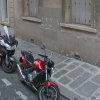Motorcycle: (14, 34, 75, 100)
